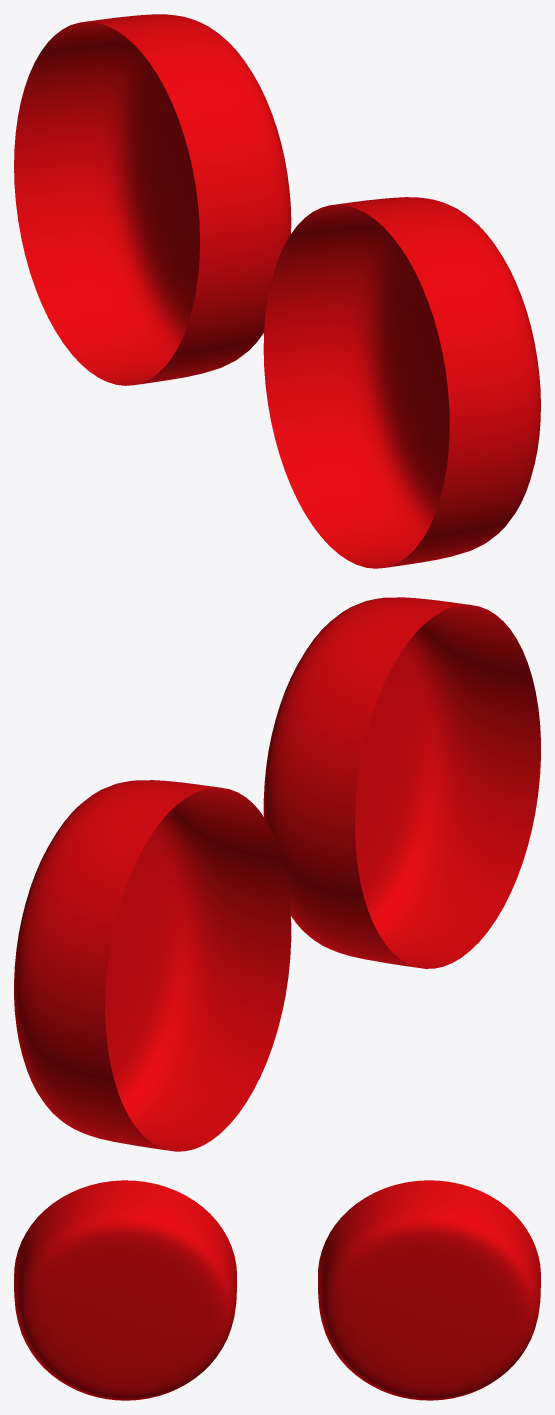
File: retro-game-console-buttons.fbx
3 renders of one model, top to bottom at view 1: azimuth 30°, elevation 25°; view 2: azimuth 150°, elevation 25°; view 3: azimuth 270°, elevation 25°, orthographic. The views are drawn at different scales.
Parts seen in each view (by area): view 1: Circle.008; view 2: Circle.008; view 3: Circle.008.
Boxes of the visible parts, x1,y1,x2,y2 form: Circle.008: (14,14,540,568); Circle.008: (14,597,540,1151); Circle.008: (14,1180,540,1400).
Size of the model in its own units: 8.38 by 20.1 by 46.95.
